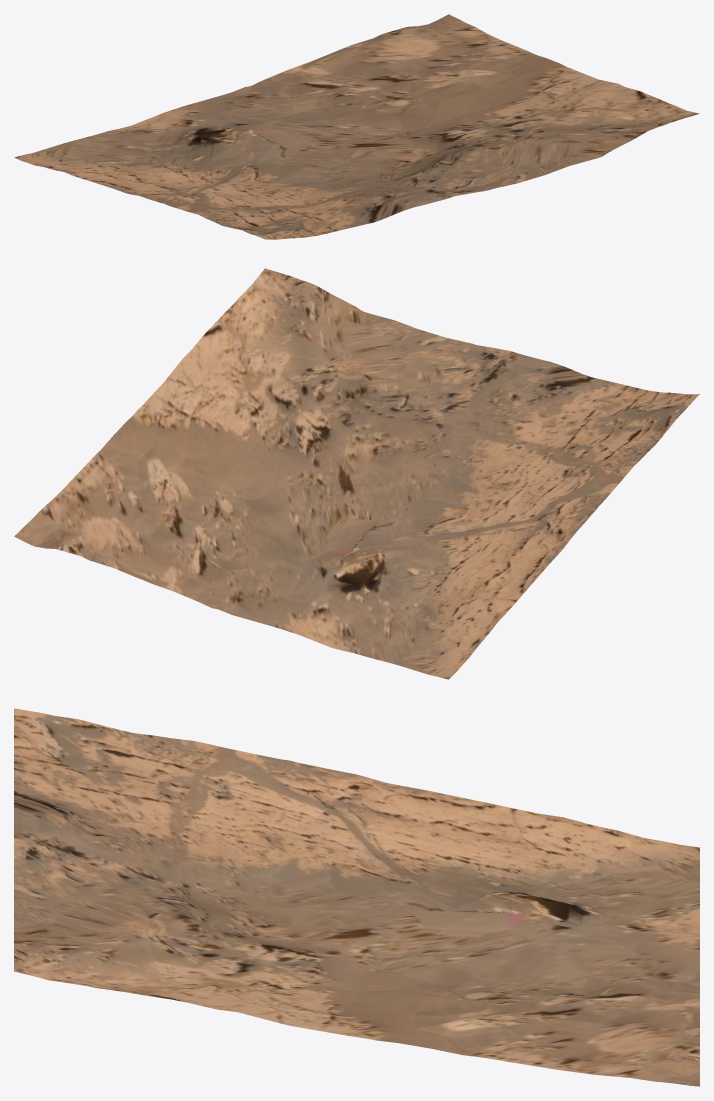
3 views of the same model, one above another, from view 1: azimuth 30°, elevation 25°; view 2: azimuth 150°, elevation 25°; view 3: azimuth 270°, elevation 25° (orthographic). The views are drawn at different scales.
Bounding box in the file's own units: 2.09 × 0.5578 × 2.09.
2 materials, 2 textured.
